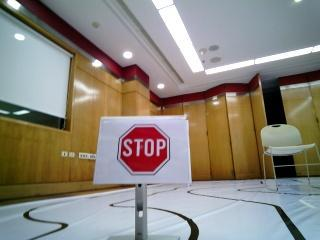stop: (101, 121, 189, 177)
